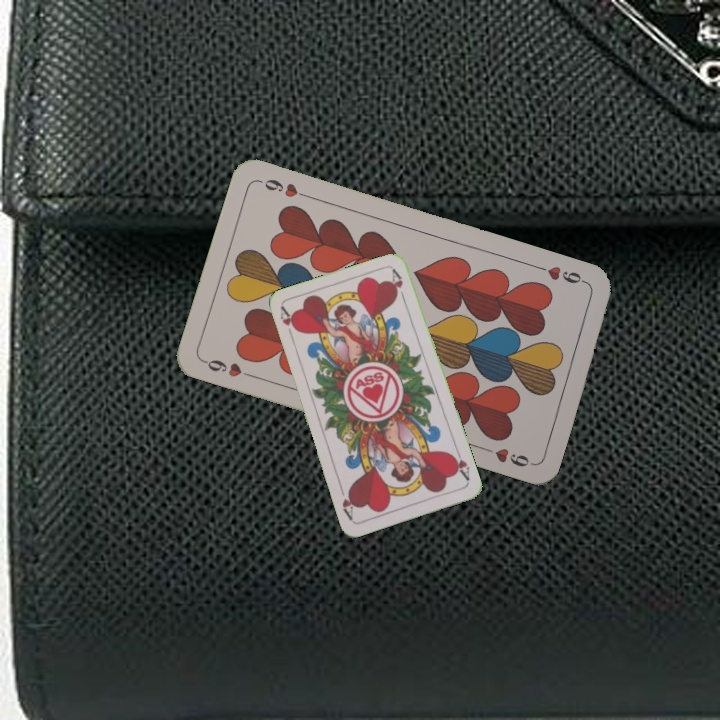H9: (199, 355, 257, 381), (533, 261, 591, 287)
HA: (276, 303, 300, 343), (447, 445, 472, 483)
